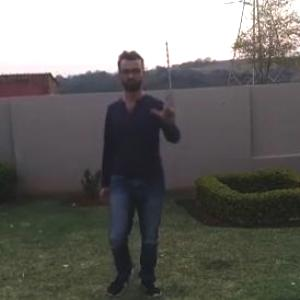land_hand: (146, 88, 178, 129)
